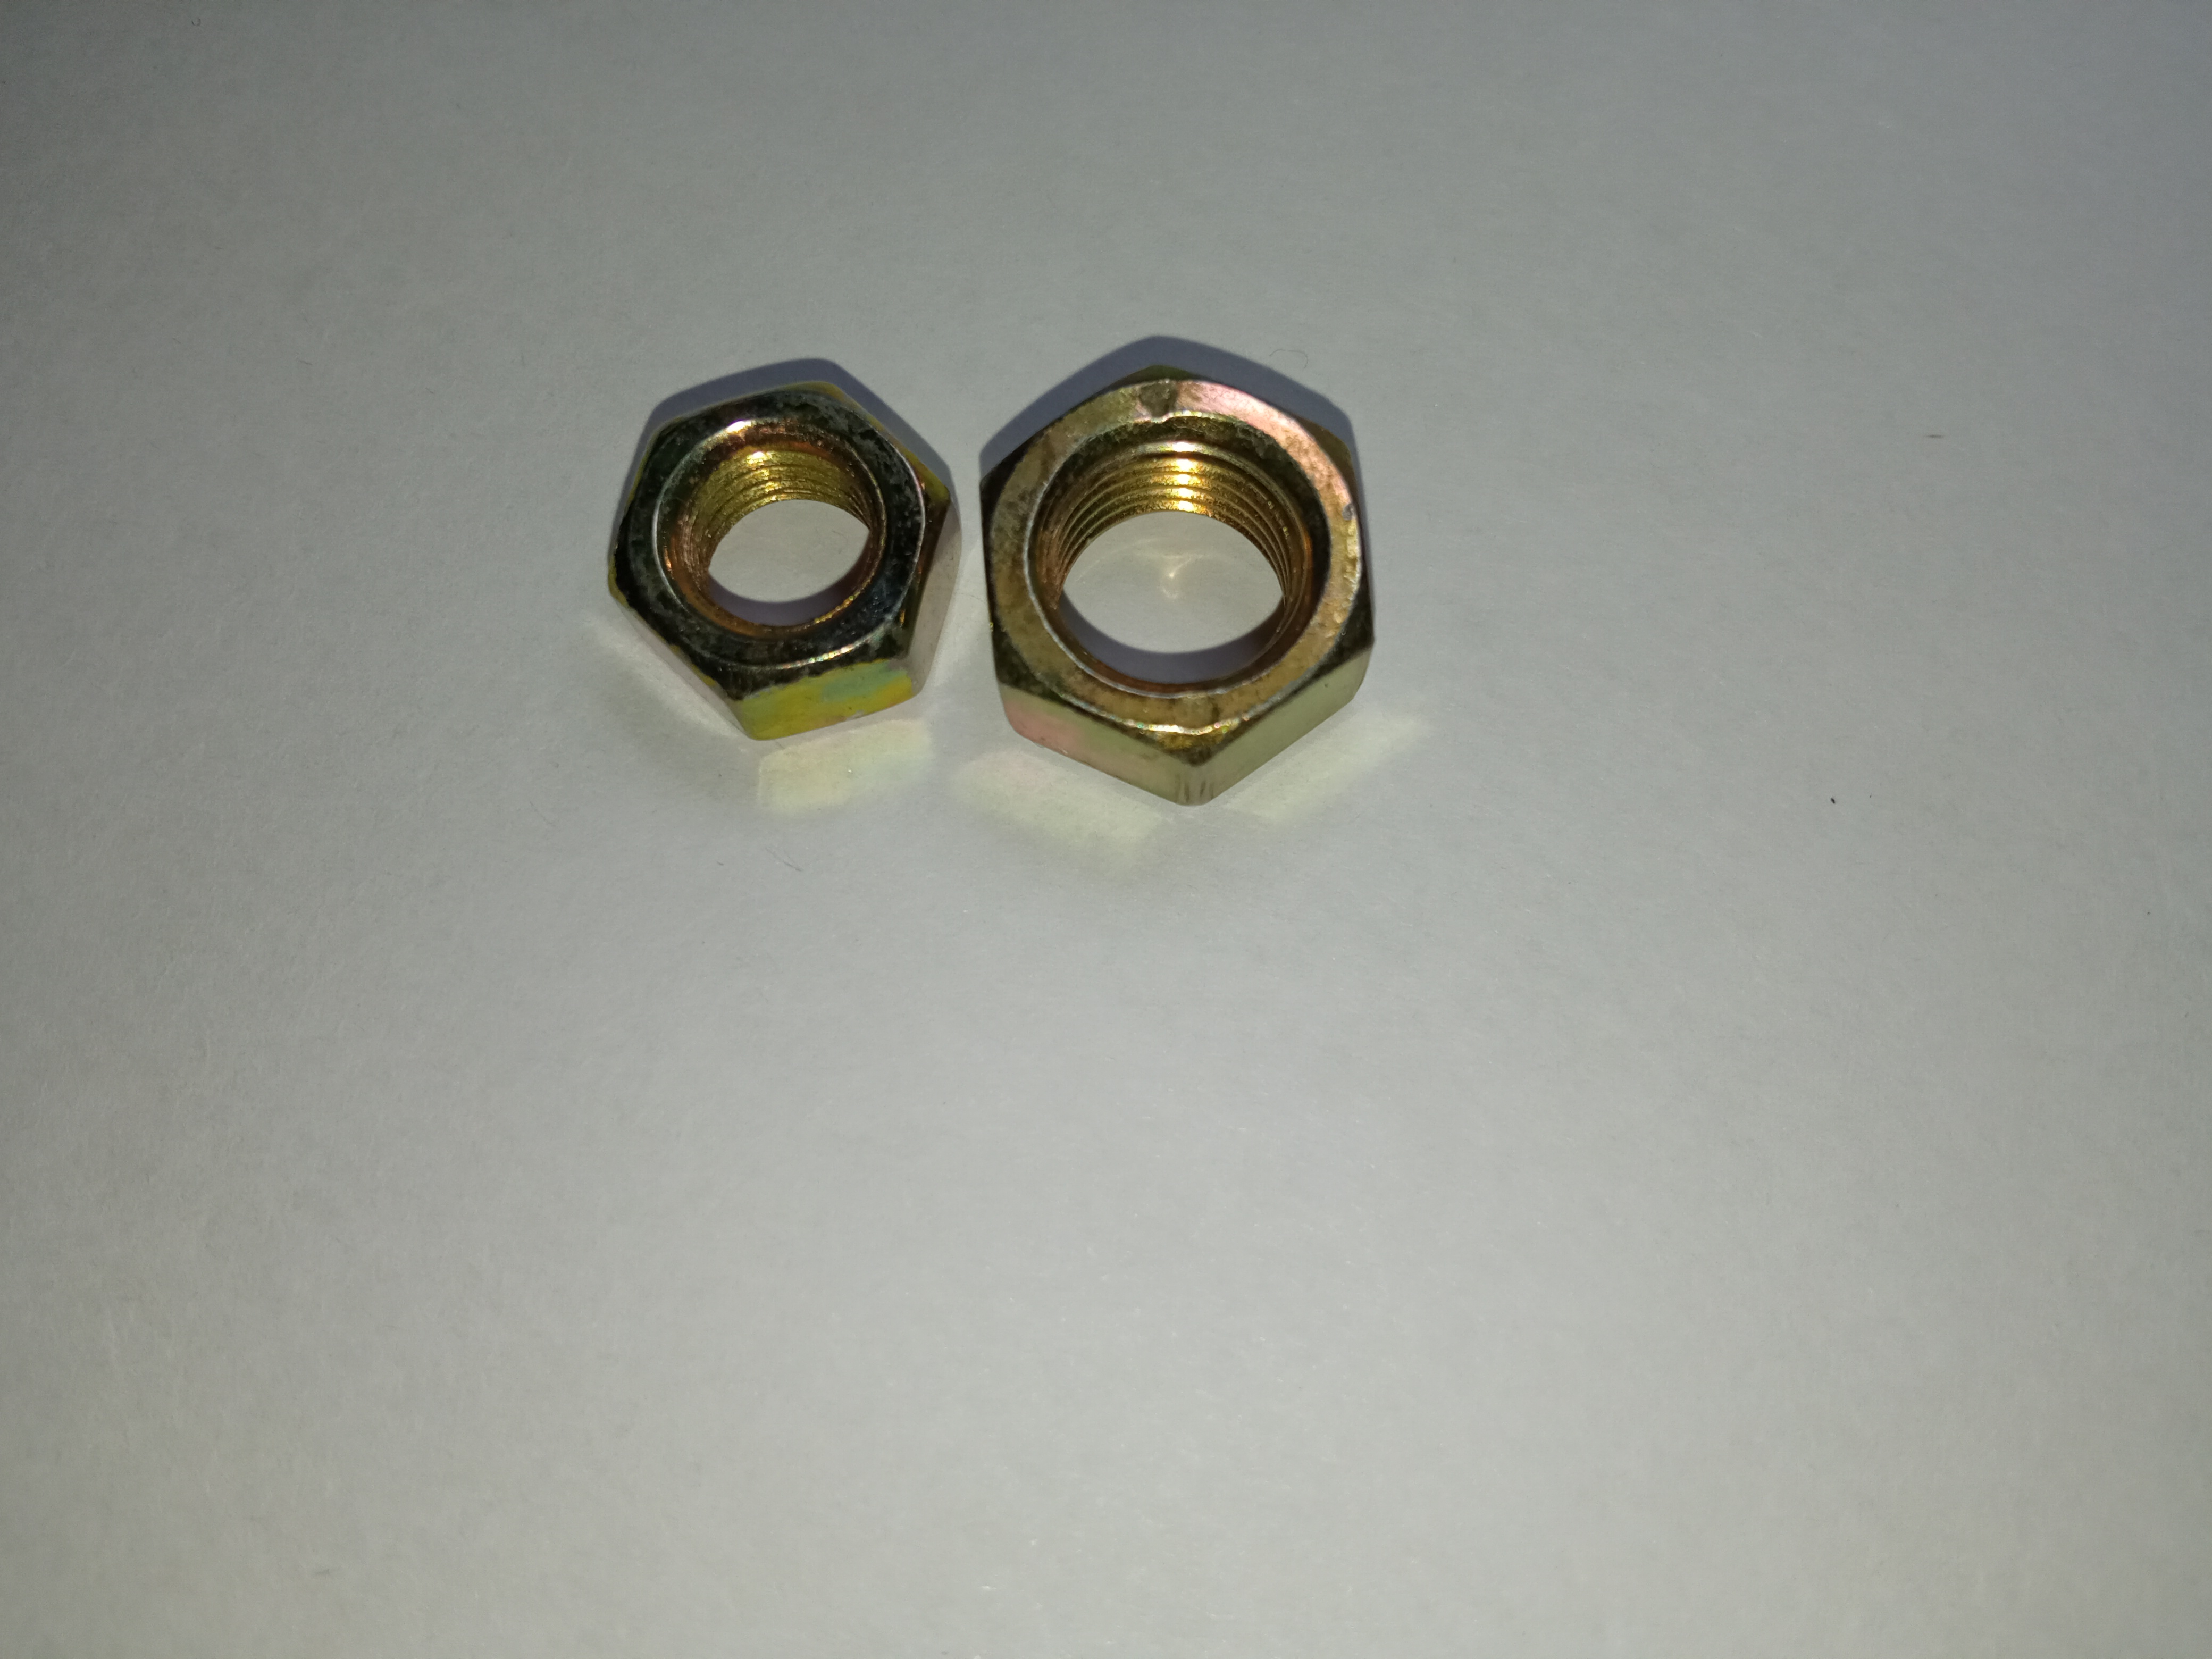m10: (982, 385, 1388, 777)
m8: (620, 382, 925, 713)
